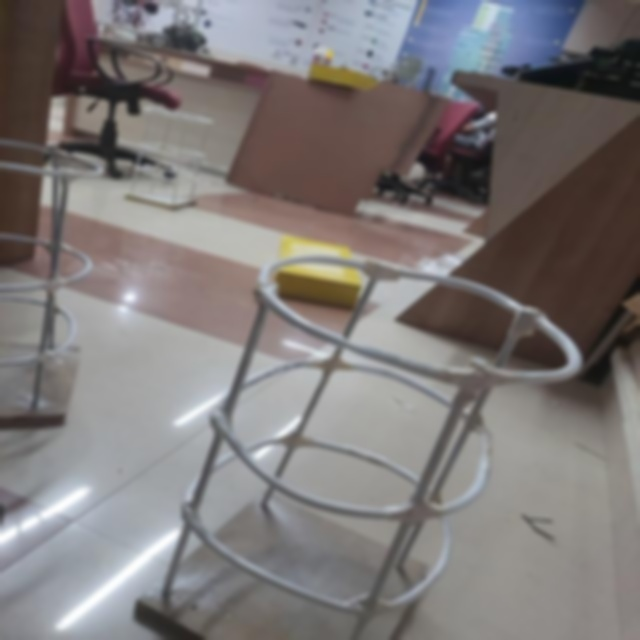silo: (161, 252, 579, 640), (0, 124, 105, 432), (139, 98, 214, 214)
